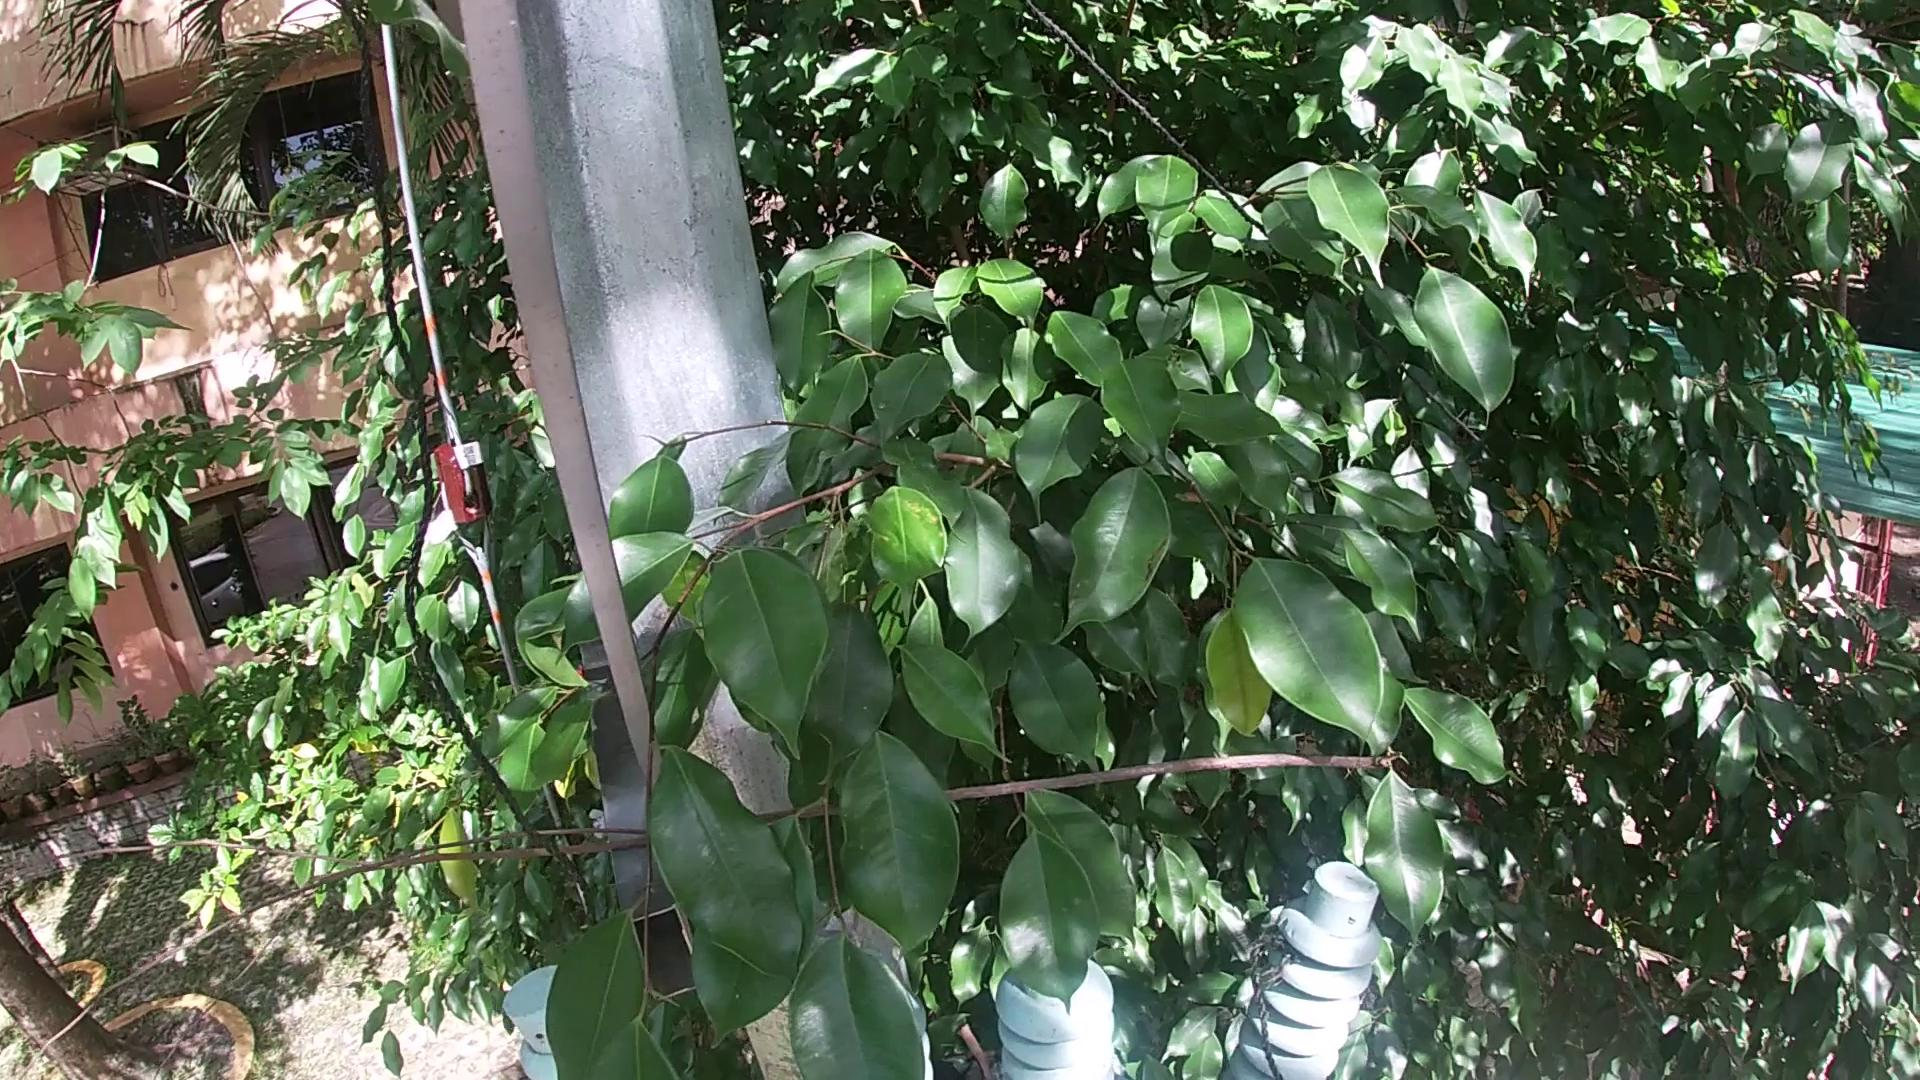tree branch: (1, 720, 1365, 1067)
